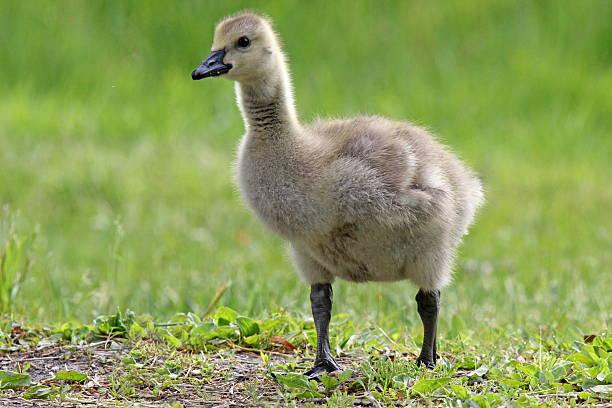Canadian-Goose: (190, 10, 485, 362)
